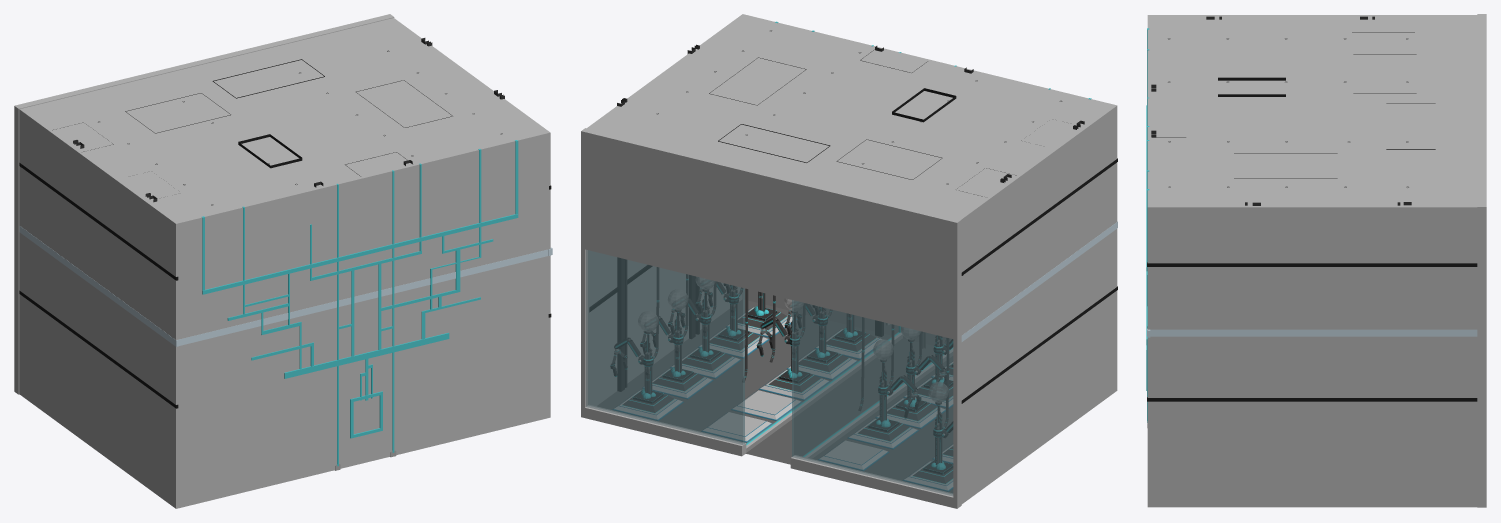
Rendered from OplaadRuimteCompleet.fbx.
The picture shows the model from 3 angles, left to right: view 1: azimuth 30°, elevation 25°; view 2: azimuth 150°, elevation 25°; view 3: azimuth 270°, elevation 25°; orthographic projection. The views are drawn at different scales.
Visible parts, largest first — view 1: RoomMesh, BlueStripesGlowing; view 2: RoomMesh; view 3: RoomMesh, BlueStripesGlowing.
Boxes of the visible parts, x1,y1,x2,y2 form: RoomMesh: [14, 14, 552, 508]; BlueStripesGlowing: [202, 140, 518, 466]; RoomMesh: [581, 14, 1117, 508]; RoomMesh: [1147, 14, 1486, 507]; BlueStripesGlowing: [1146, 28, 1149, 422].
Bounding box in the file's own units: 11.09 × 8.17 × 8.22.
